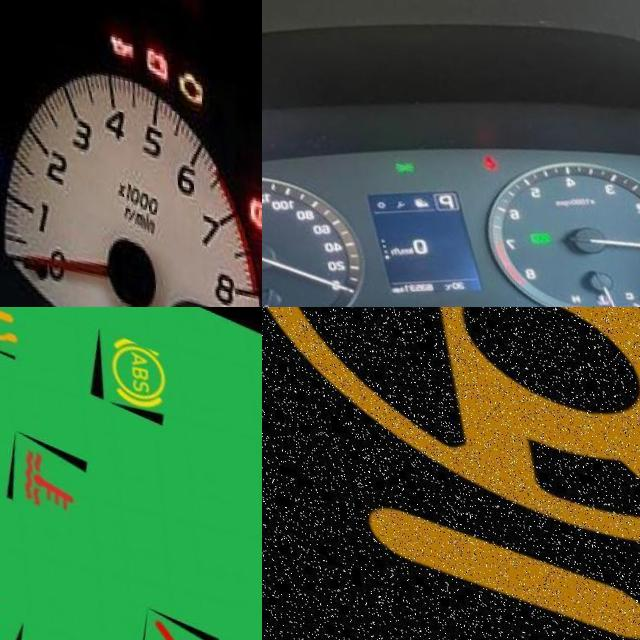Electronic Power Steering: (262, 307, 640, 640)
